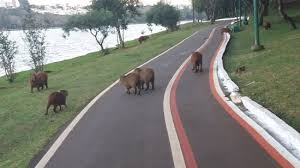capivara: (46, 89, 68, 117), (119, 74, 142, 98), (135, 68, 156, 94), (30, 70, 48, 94), (190, 51, 204, 73)
